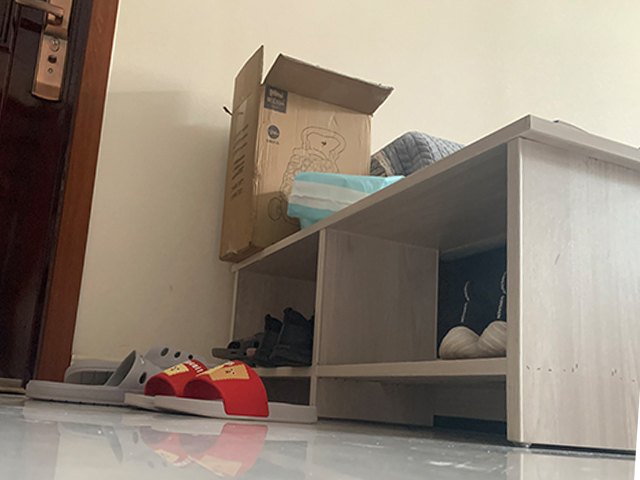slippers: (155, 361, 318, 423), (24, 351, 162, 423)
